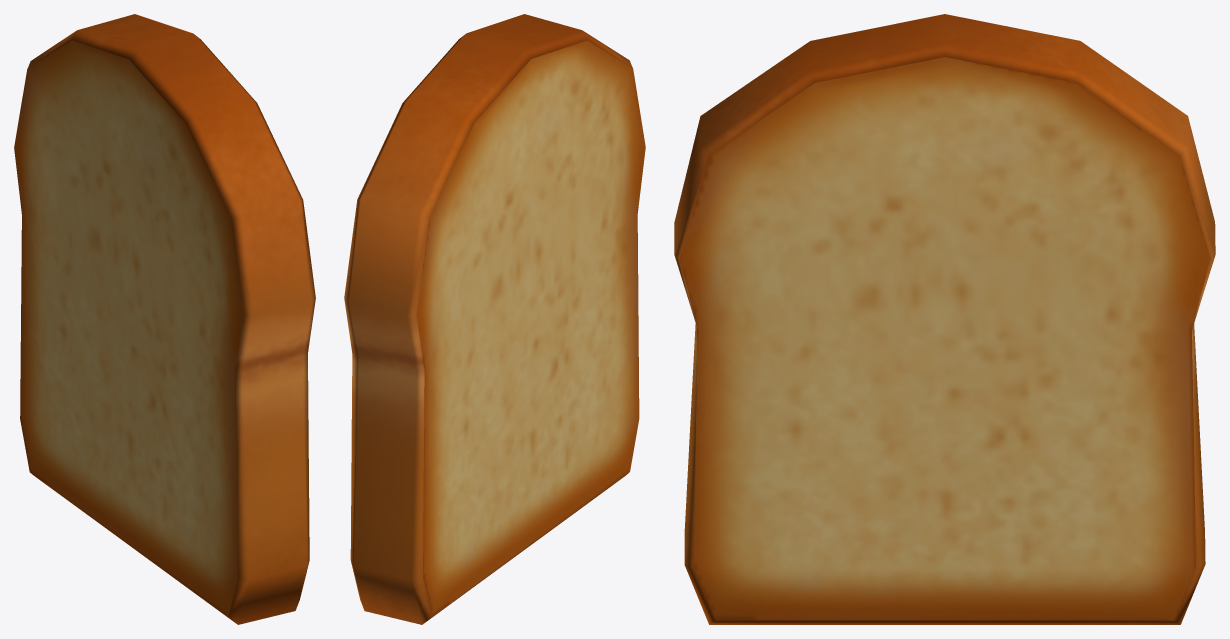
Rendered from Loaf_Sliced.fbx.
3 views of the same model, side by side, from view 1: azimuth 30°, elevation 25°; view 2: azimuth 150°, elevation 25°; view 3: azimuth 270°, elevation 25° (orthographic). The views are drawn at different scales.
Visible parts, largest first — view 1: Loaf_Sliced; view 2: Loaf_Sliced; view 3: Loaf_Sliced.
Part boxes in pixels (<box>): Loaf_Sliced: <box>14,14,315,624</box>; Loaf_Sliced: <box>344,14,645,624</box>; Loaf_Sliced: <box>674,14,1215,624</box>.
Bounding box in the file's own units: 6.19 × 40.97 × 34.6.
